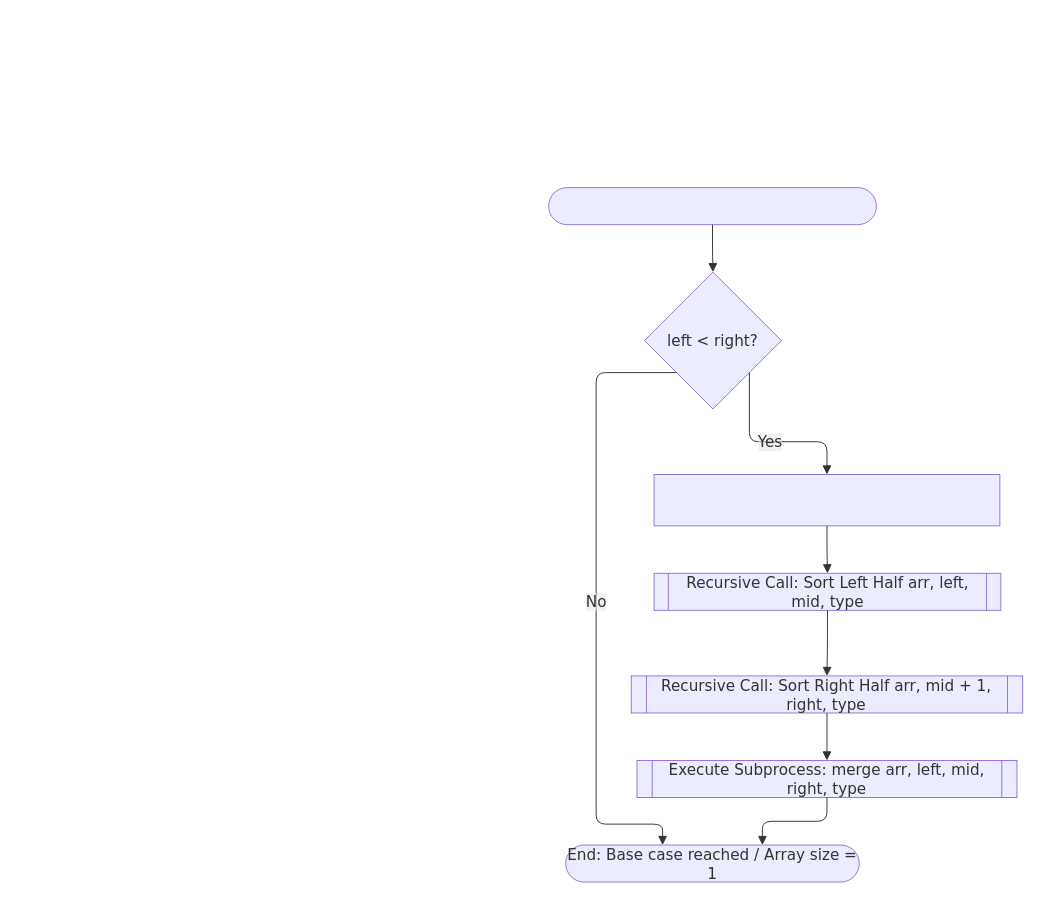
Some shapes in this 1039 by 899 pixel diagram are drawn without their labels. The shapes that lost their labels are listed below. From the top down, each one's centre as x and y in pixels, then its label:
At point (712, 206): "Start: mergeSortRecursive arr, left, right, type".
At point (826, 500): "Calculate Midpoint: mid = left + ((right-left) / 2)".
